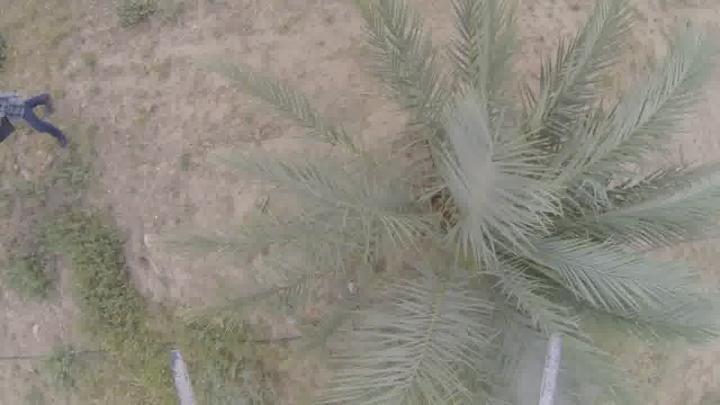Date-Palm-Crown: (320, 92, 600, 370)
